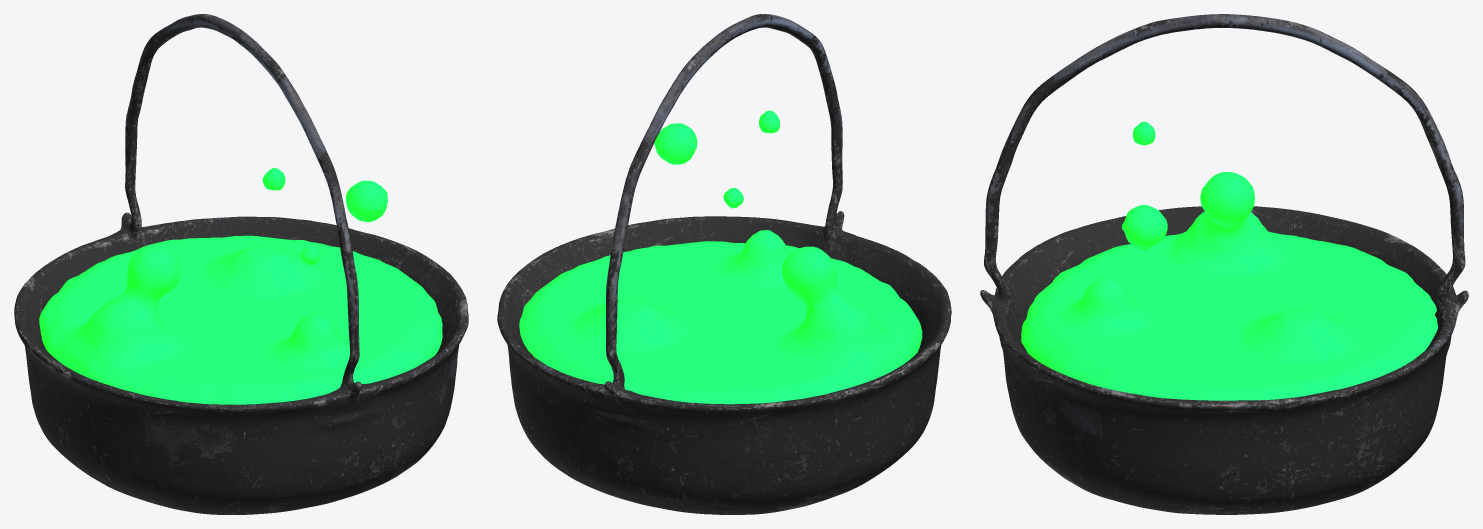
File: magic_cauldron.glb
3 renders of one model, left to right at view 1: azimuth 30°, elevation 25°; view 2: azimuth 150°, elevation 25°; view 3: azimuth 270°, elevation 25°, orthographic. The views are drawn at different scales.
Visible parts, largest first — view 1: pan, PS_Mesher001; view 2: pan, PS_Mesher001; view 3: pan, PS_Mesher001.
Part boxes in pixels (<box>): pan: <box>14,14,468,514</box>; PS_Mesher001: <box>39,168,442,404</box>; pan: <box>497,14,951,514</box>; PS_Mesher001: <box>519,110,922,404</box>; pan: <box>980,14,1468,514</box>; PS_Mesher001: <box>1021,121,1437,400</box>.
Size of the model in its own units: 1.53 by 1.63 by 1.58.
Materials: 2 (1 with a texture image).
